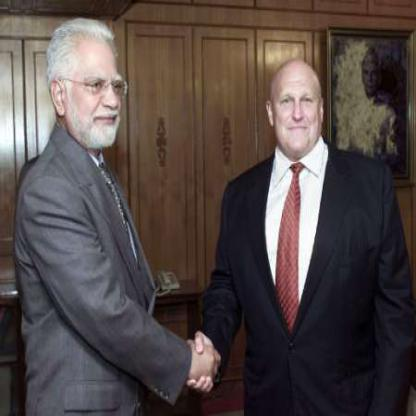face: (64, 25, 128, 156), (273, 61, 325, 157)
